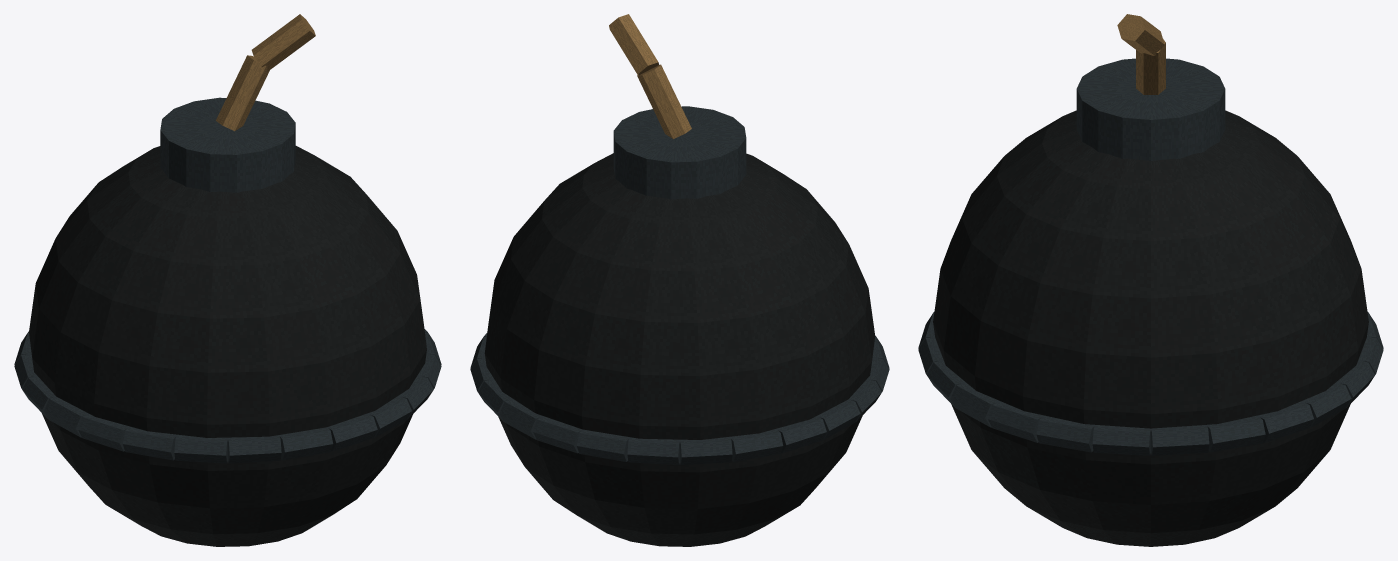
The model's file is SM_powder_bomb.gltf.
3 renders of one model, left to right at view 1: azimuth 30°, elevation 25°; view 2: azimuth 150°, elevation 25°; view 3: azimuth 270°, elevation 25°, orthographic. The views are drawn at different scales.
Parts seen in each view (by area): view 1: root; view 2: root; view 3: root.
Boxes of the visible parts, x1,y1,x2,y2 form: root: [14, 14, 441, 546]; root: [470, 14, 889, 546]; root: [918, 14, 1383, 546].
Size of the model in its own units: 0.4697 by 0.6104 by 0.4697.
Materials: 3 (3 with a texture image).
